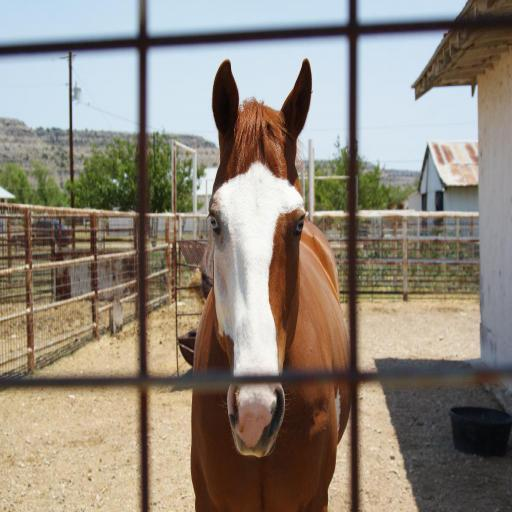Horse: (190, 55, 352, 511)
